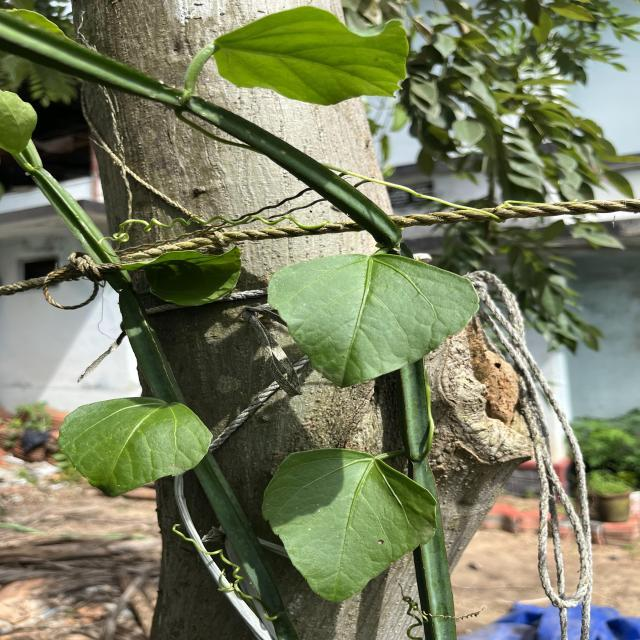Cissus quadrangularis: (265, 250, 483, 390), (257, 446, 442, 604), (52, 394, 216, 501)
